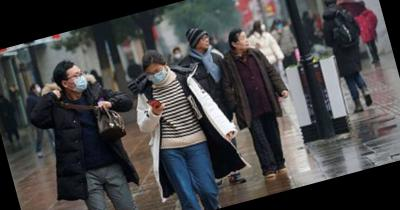with_mask: (67, 68, 90, 96), (145, 65, 169, 87), (173, 49, 183, 60), (274, 20, 284, 31), (34, 83, 43, 95), (259, 21, 267, 33)
without_mask: (237, 33, 252, 53), (197, 33, 213, 51)
